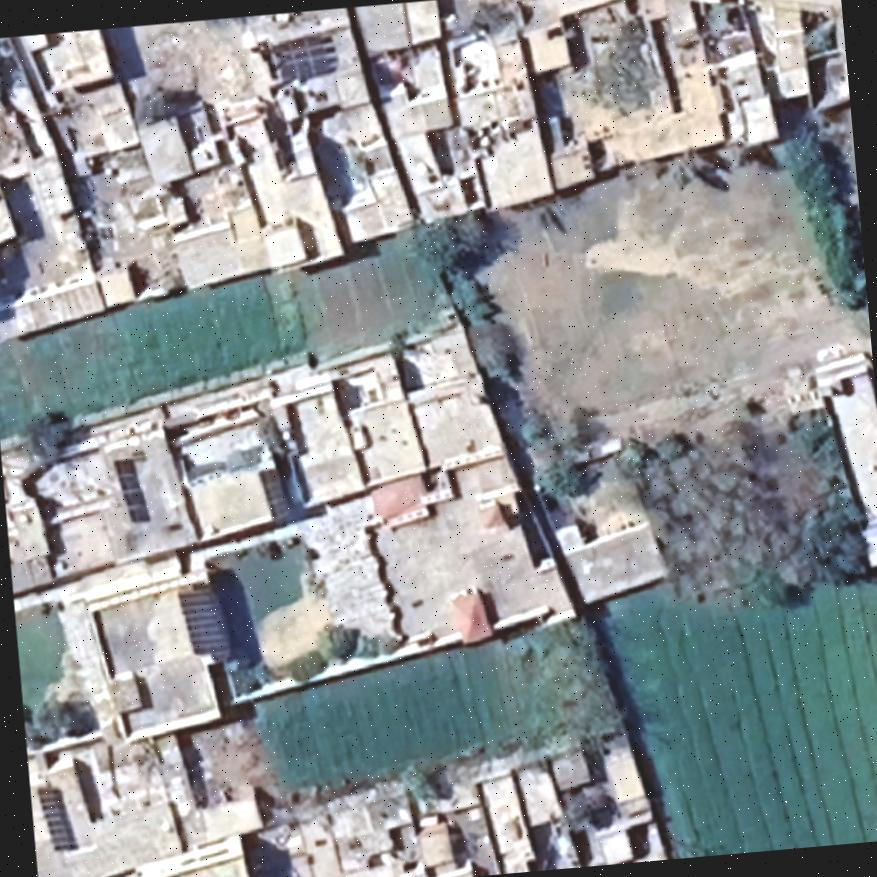Solarpanel: (172, 574, 238, 668), (269, 28, 344, 86), (32, 778, 80, 854), (109, 450, 154, 530), (253, 460, 300, 530)
